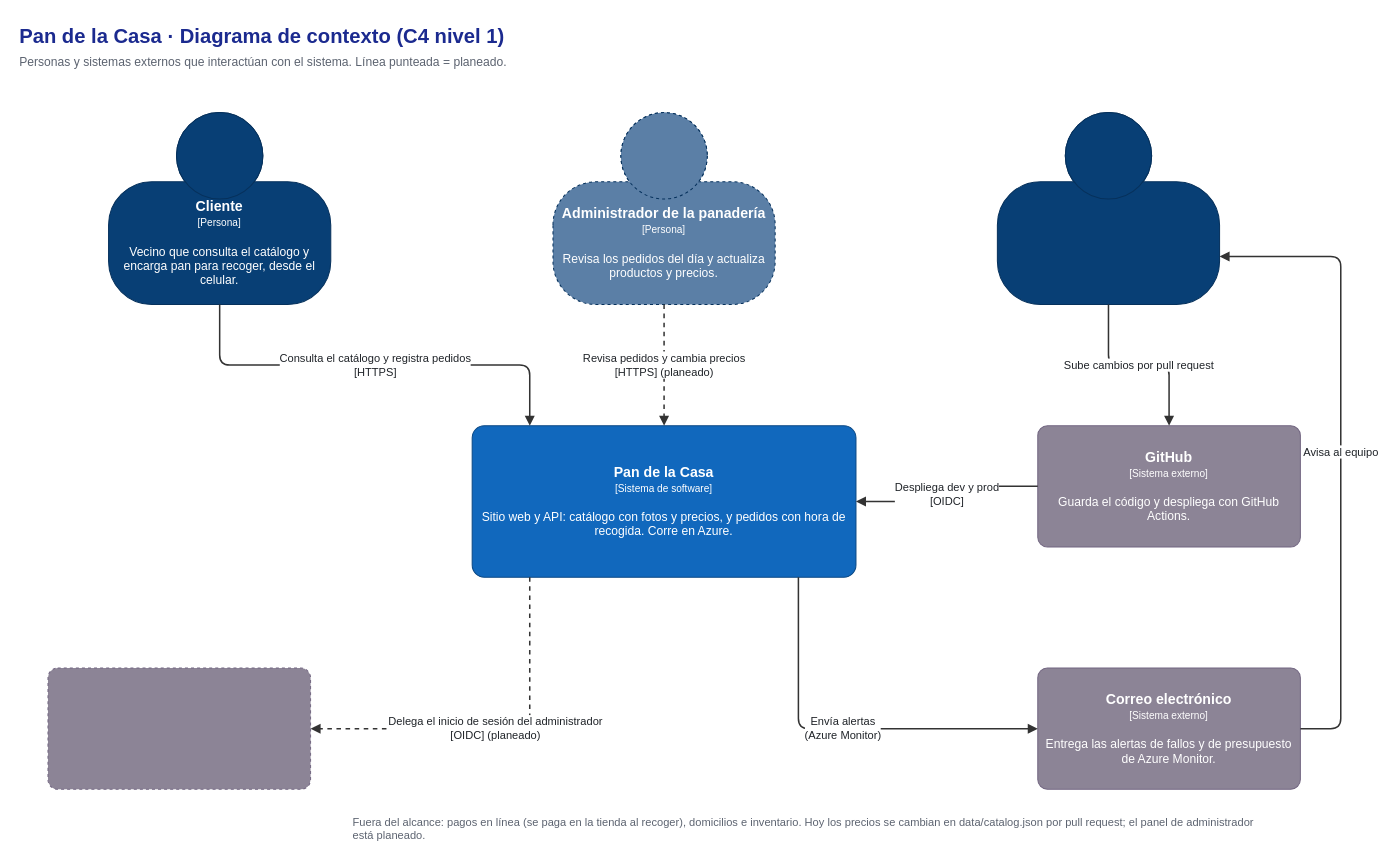
This 1395x867 diagram has some shape labels left out. Each missing label, with the centre of its shape:
"Equipo técnico [Persona] Mantiene el sistema: sube cambios y atiende alertas." goes at pixel 1108 208.
"Microsoft Entra ID [Sistema externo] Autentica al administrador del panel." goes at pixel 179 728.
